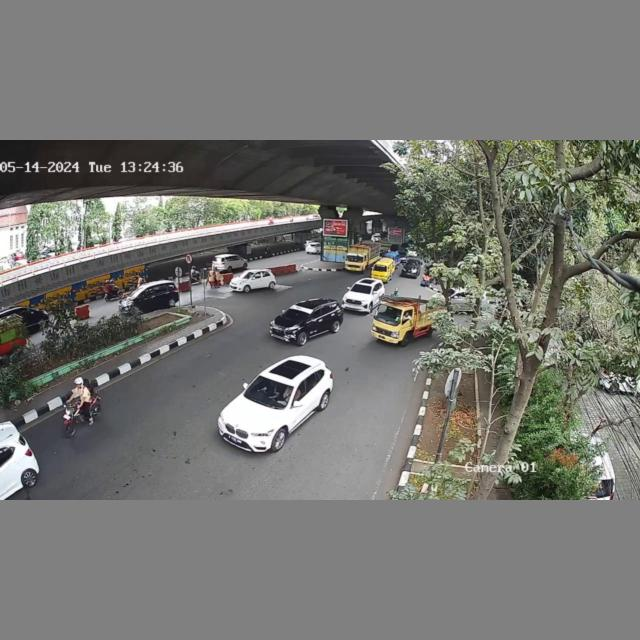windshield: (249, 376, 295, 409), (374, 302, 412, 324), (280, 303, 315, 321)
